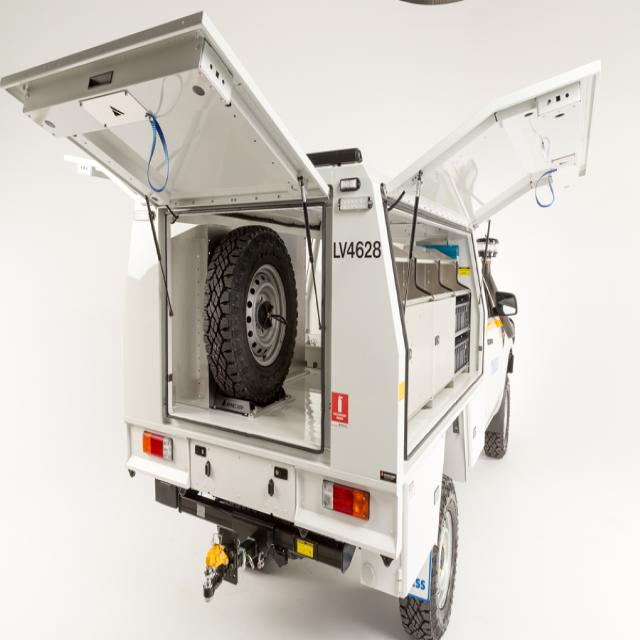light_vehicle: (88, 132, 556, 638)
